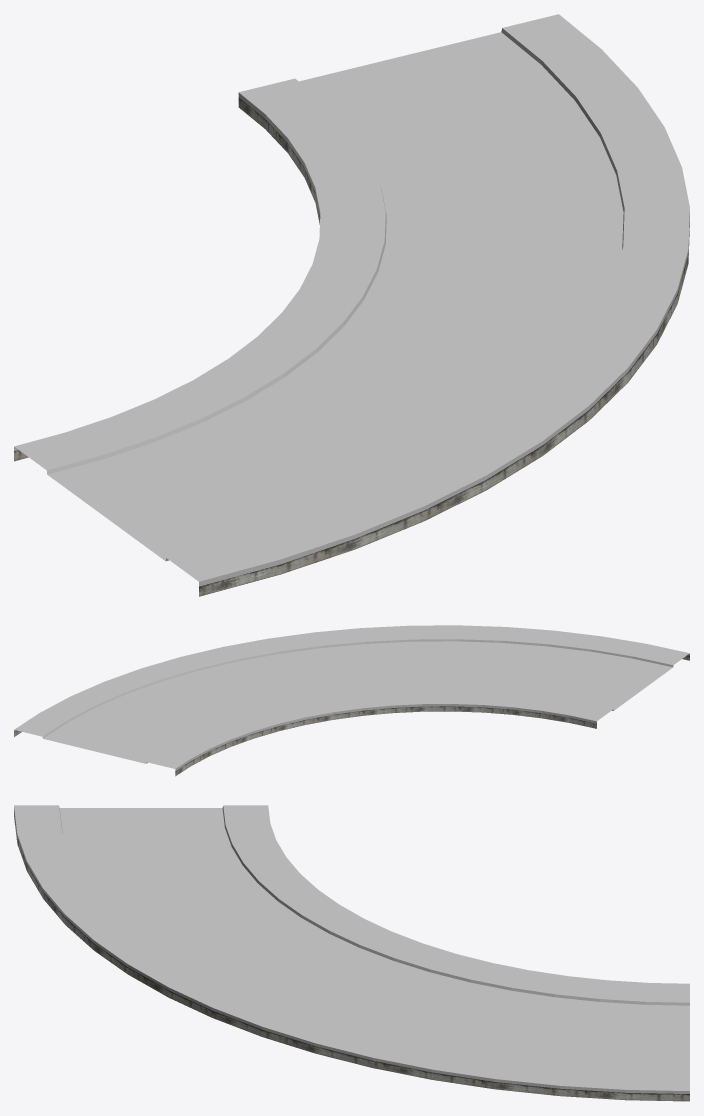
Rendered from Road_2_lines_90.FBX.
3 views of the same model, one above another, from view 1: azimuth 30°, elevation 25°; view 2: azimuth 150°, elevation 25°; view 3: azimuth 270°, elevation 25° (orthographic). The views are drawn at different scales.
Parts seen in each view (by area): view 1: Road_2_lines_90; view 2: Road_2_lines_90; view 3: Road_2_lines_90.
Part boxes in pixels (bbox=[...]): Road_2_lines_90: bbox=[14, 14, 689, 596]; Road_2_lines_90: bbox=[14, 625, 689, 776]; Road_2_lines_90: bbox=[14, 805, 689, 1101].
Size of the model in its own units: 2721 by 45.85 by 2721.
